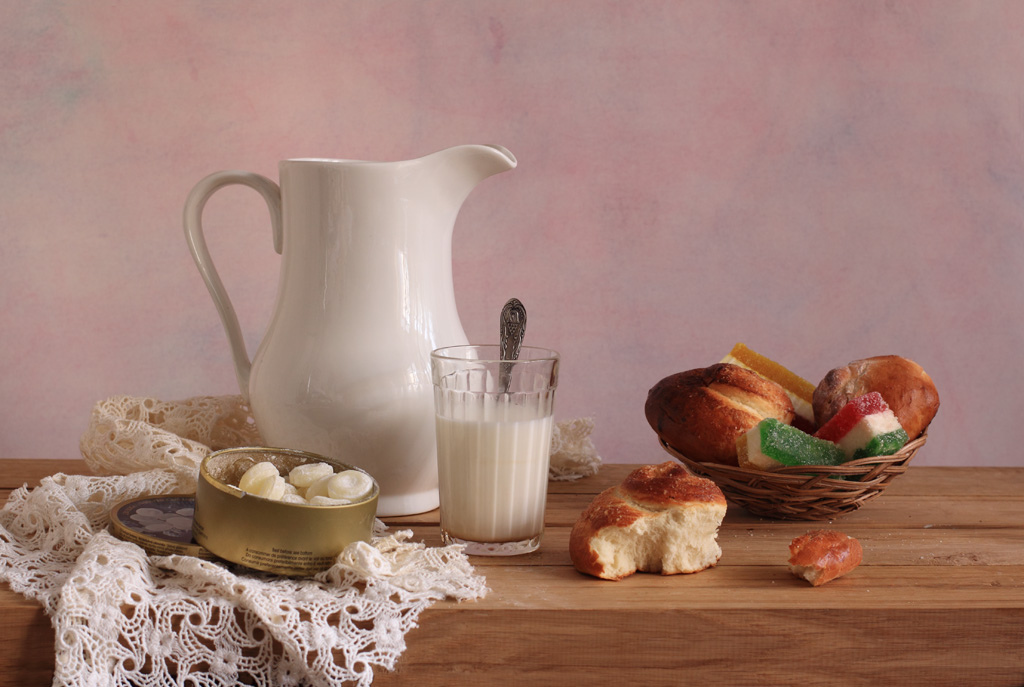glass of milk: (433, 349, 546, 556)
slice of bread: (580, 463, 718, 576), (643, 366, 802, 454), (808, 352, 926, 434)
